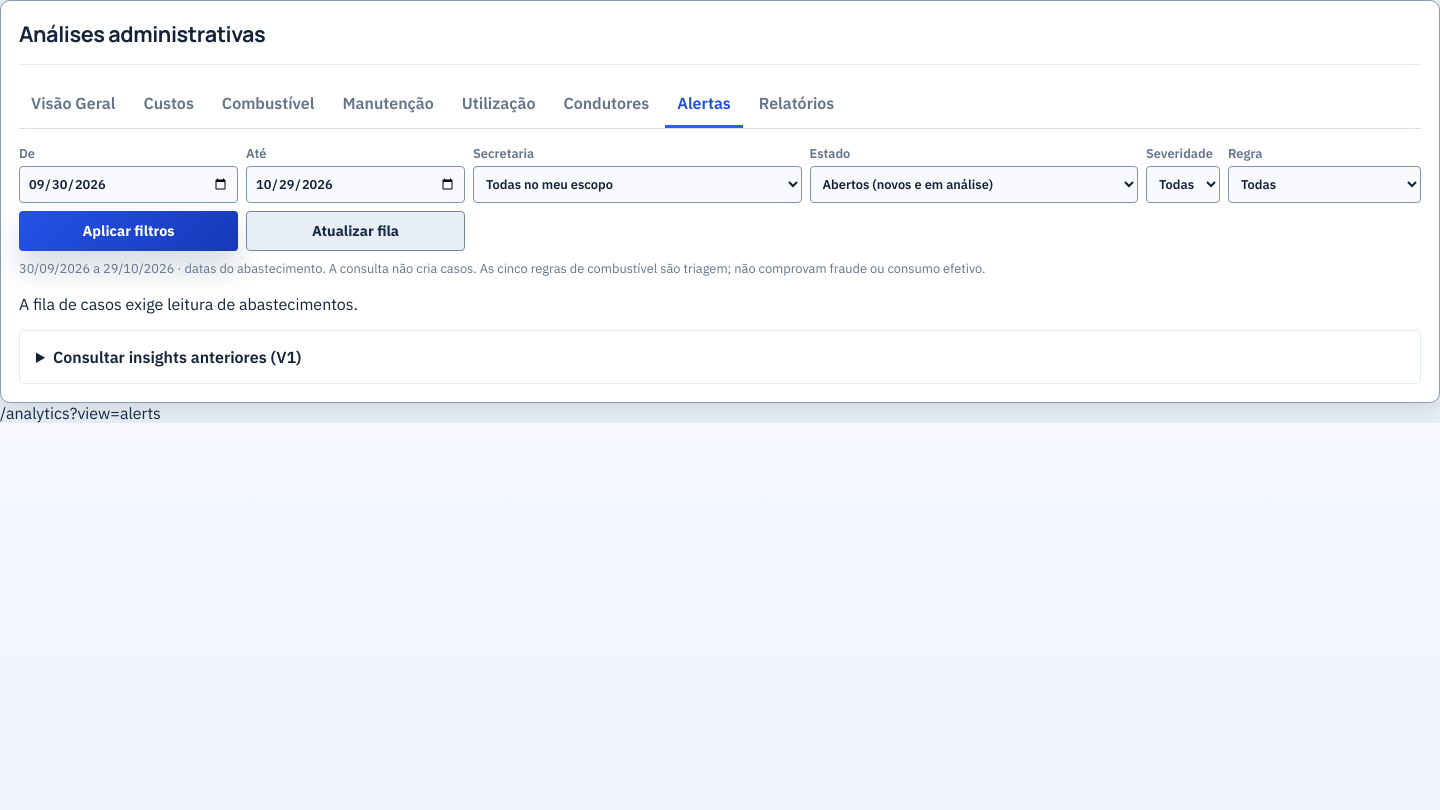
Analytics — fundação V1 › mostra a justificativa da API também na falha de exportação V1 binária
Step 1. Click the heading "Consultar insights anteriores (V1)" → (177, 357), box [53, 347, 301, 367]
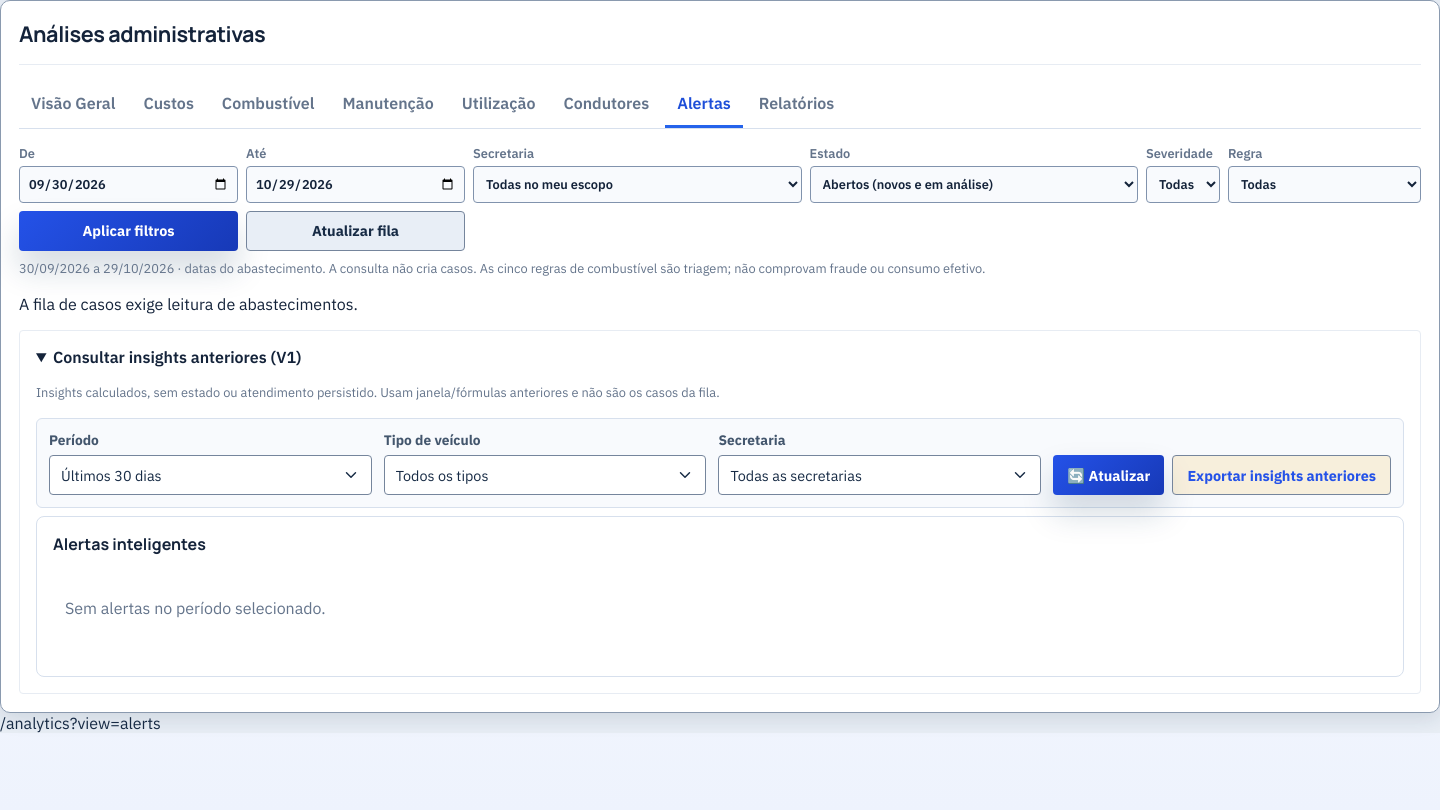
Result: the text "Sem alertas no período selecionado." is shown at [65, 598, 326, 618]
Step 2. Click the button "Exportar insights anteriores" → (1282, 475), box [1172, 455, 1391, 495]
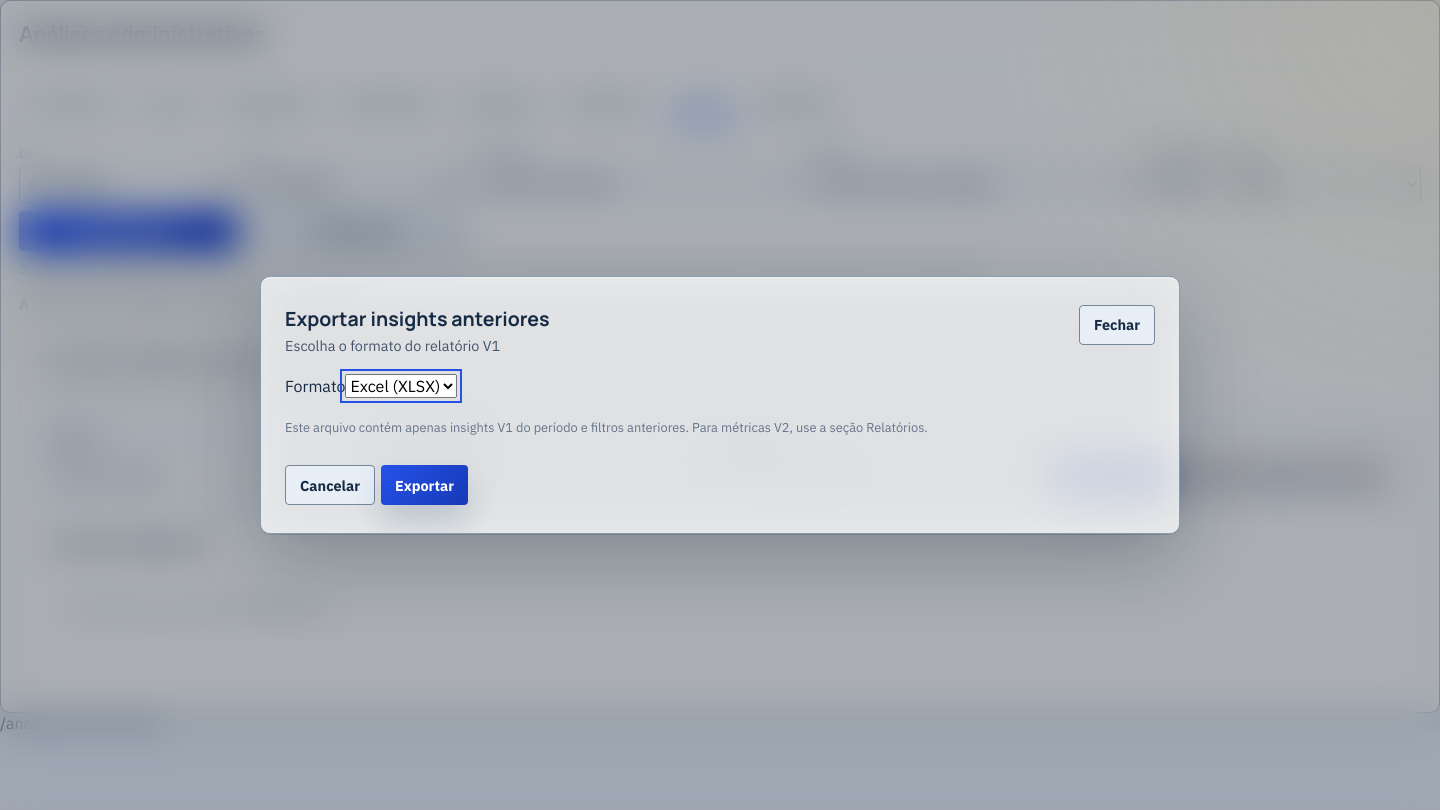
Step 3. Click the button "Exportar" → (424, 485), box [381, 465, 468, 505]
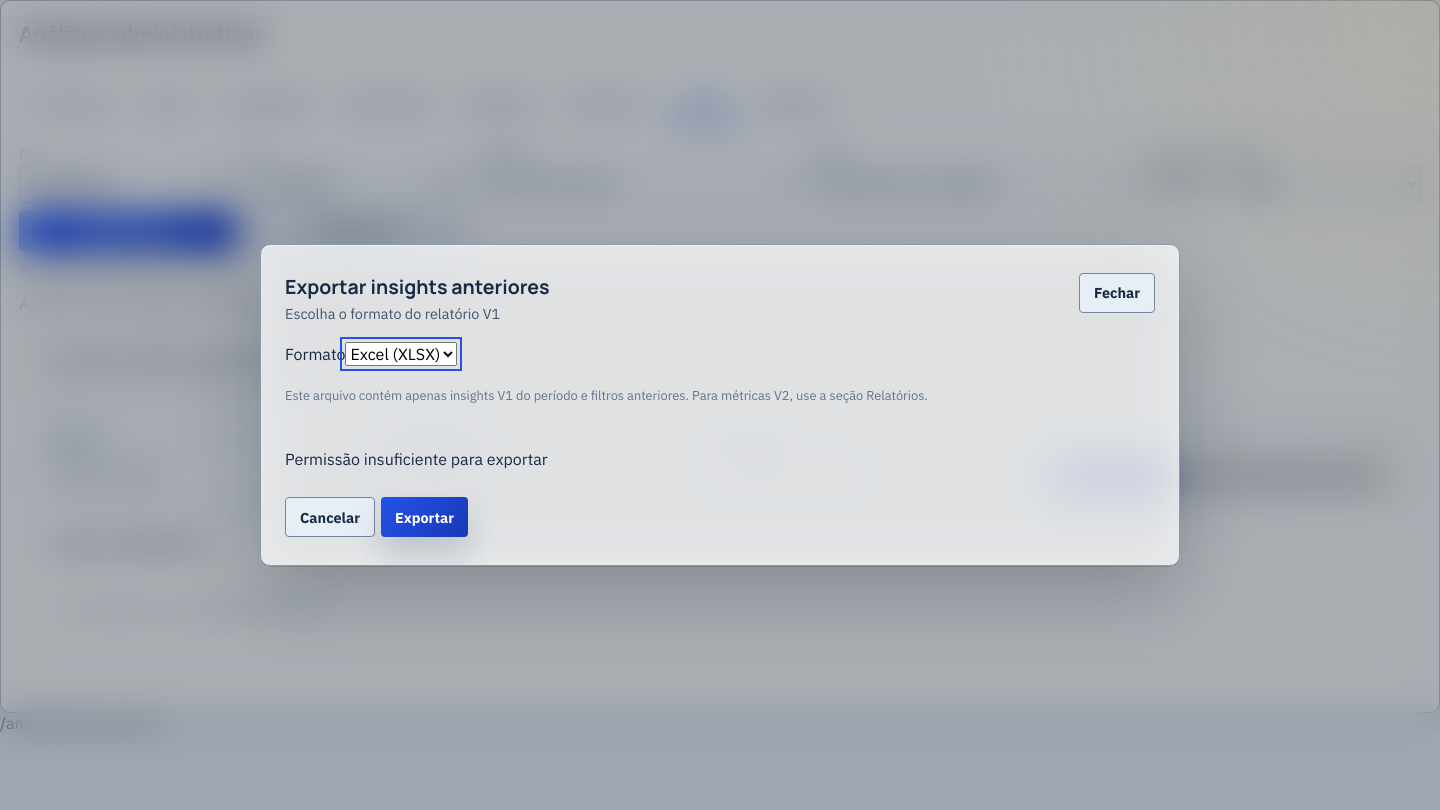
Result: the button "Exportar" is enabled at [381, 497, 468, 537]
Result: the message reads "Permissão insuficiente para exportar" at [285, 449, 548, 469]
